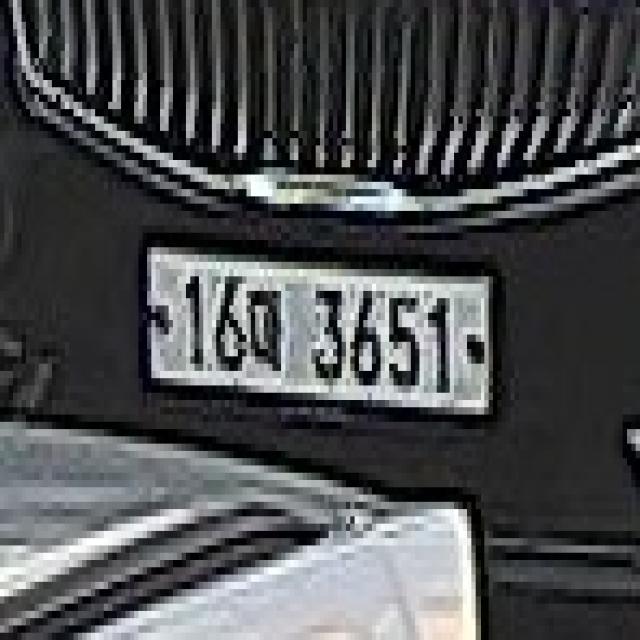1: (424, 284, 458, 407), (177, 269, 212, 378)
3: (307, 284, 350, 392)
5: (381, 276, 424, 400)
6: (350, 276, 385, 400), (212, 269, 251, 378)
license_plate: (130, 226, 502, 429)
ma: (247, 276, 294, 378)
